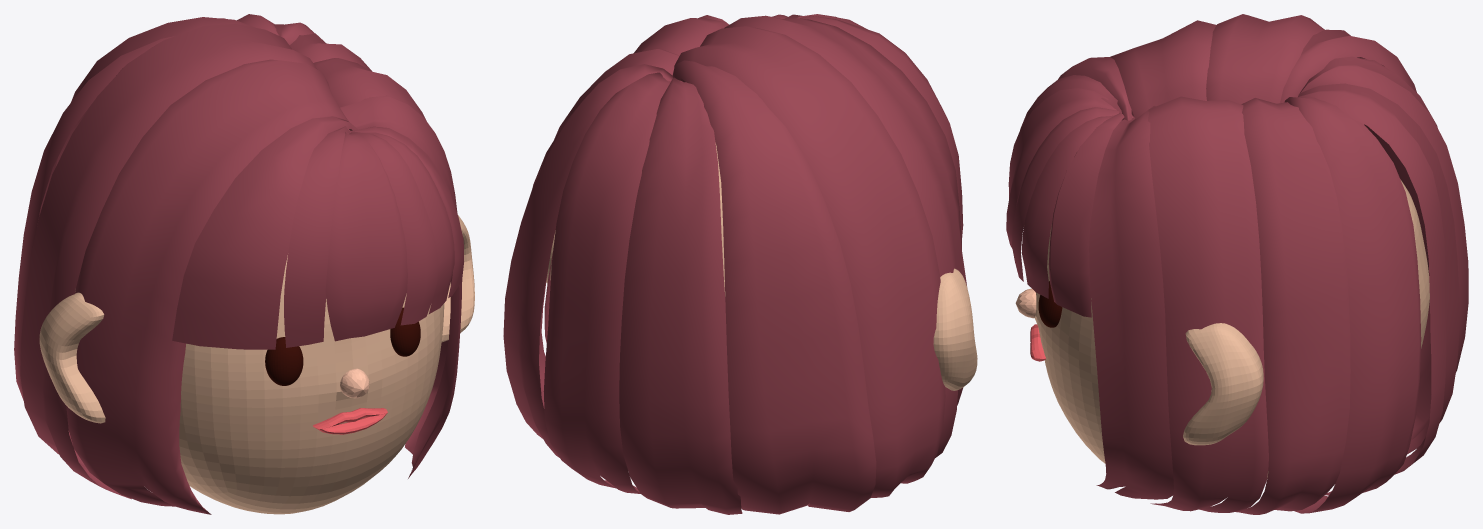
3 views of the same model, side by side, from view 1: azimuth 30°, elevation 25°; view 2: azimuth 150°, elevation 25°; view 3: azimuth 270°, elevation 25° (orthographic). The views are drawn at different scales.
Visible parts, largest first — view 1: dummyHair, Face, Leye, Mouth, Reye, Cone; view 2: dummyHair, Face; view 3: dummyHair, Face, Reye.
Part boxes in pixels (x1,y1,x2,y2): dummyHair: [14, 14, 463, 514]; Face: [39, 215, 474, 514]; Leye: [265, 337, 303, 385]; Mouth: [313, 408, 387, 434]; Reye: [390, 307, 420, 356]; Cone: [340, 368, 369, 398]; dummyHair: [503, 14, 966, 514]; Face: [546, 143, 977, 390]; dummyHair: [1006, 14, 1468, 514]; Face: [1035, 179, 1429, 477]; Reye: [1038, 281, 1062, 327].
Bounding box in the file's own units: 191 × 192 × 181.
